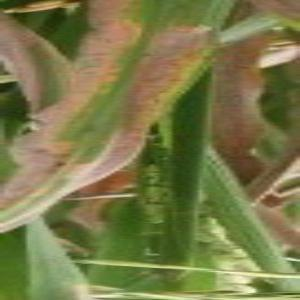2 BacterialBlight: (47, 10, 179, 169)
